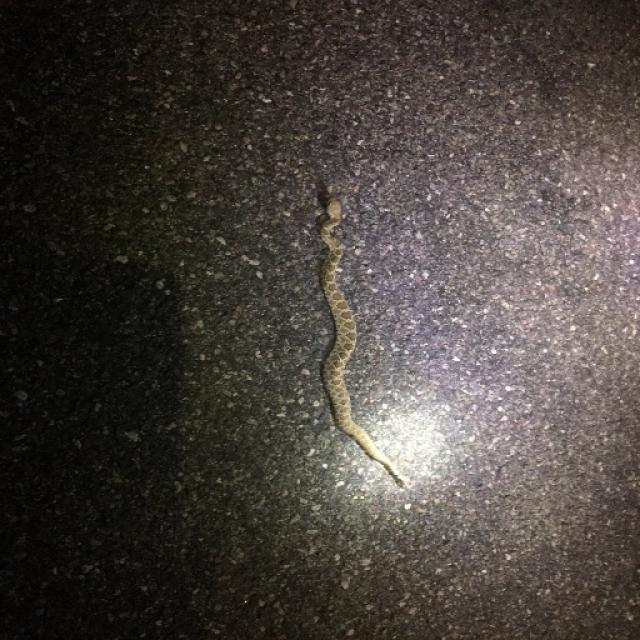snake: (284, 175, 443, 492)
